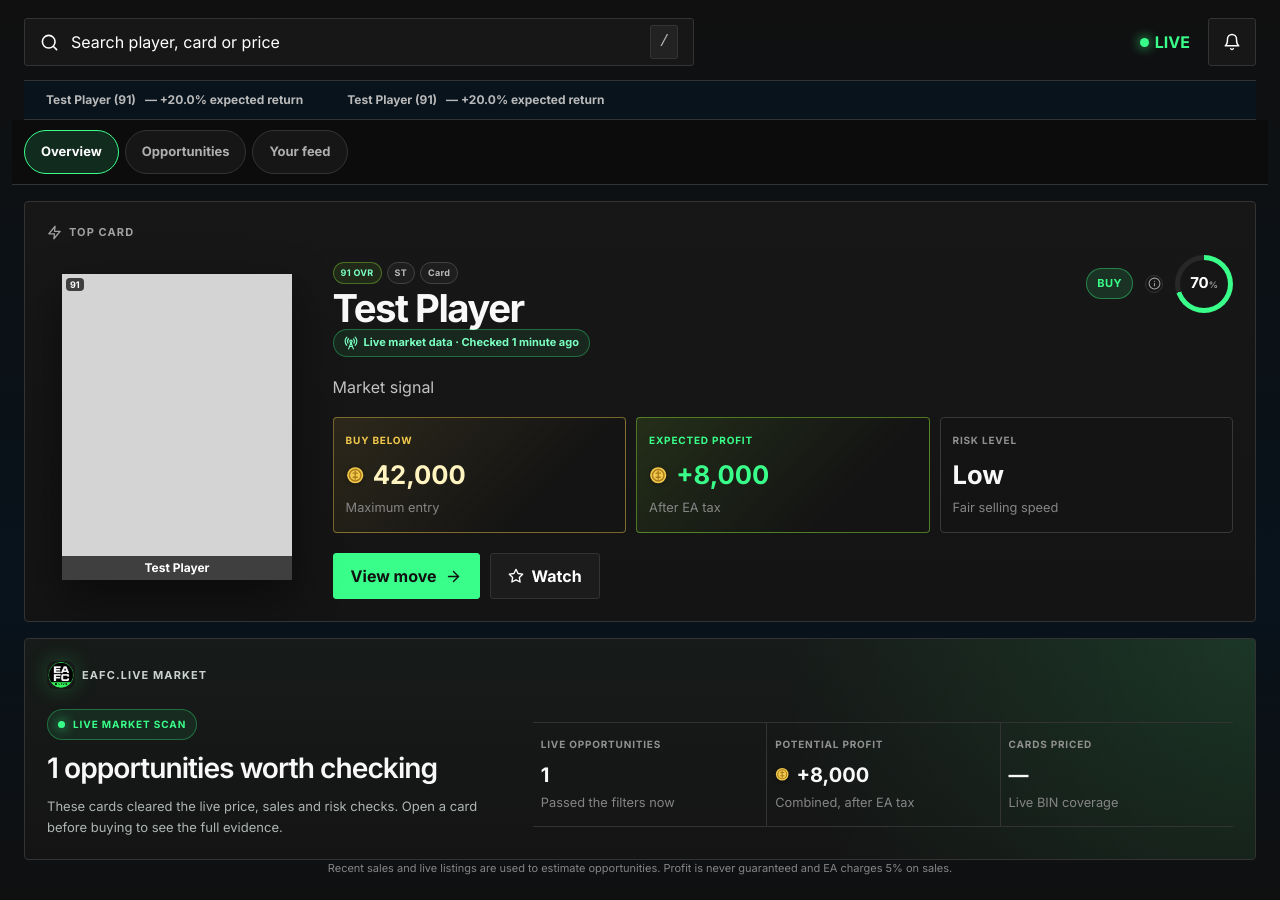
it: HomeDashboard mobile section grouping › switching to Your feed mounts the alerts feed and unmounts Overview
The image size is (1280, 900).
Click the tab "Your feed". click: point(300, 152)
box: top-left (252, 130), bottom-right (348, 174)
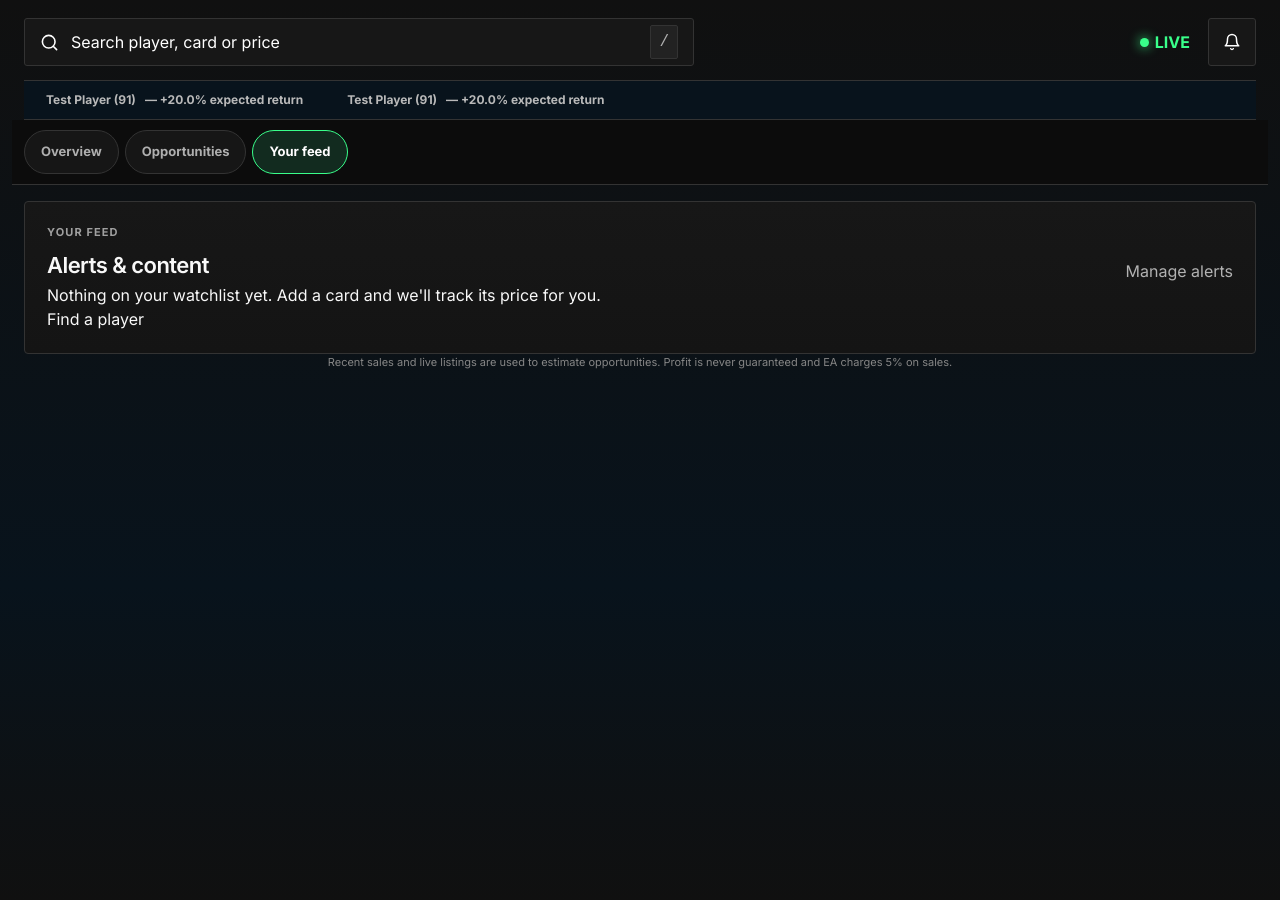
Result: the heading "Alerts & content" is shown at top-left (47, 246), bottom-right (209, 282)
Result: the text "TOP CARD" is gone
